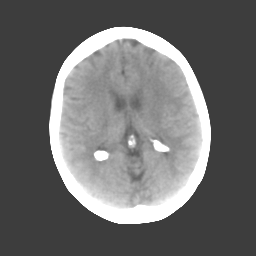ischemic: (142, 91, 160, 120)
